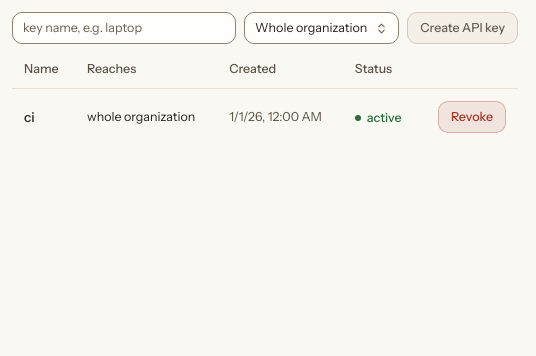
Test: creating an API key › shows the token once, with what it is for
The width and height of the screenshot is (536, 356).
Type "laptop" into the field labelled "key name" at coordinates (124, 28), box [12,12,236,44]
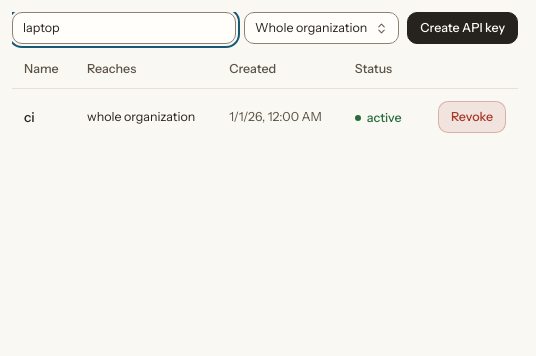
Click the button "Create API key" at coordinates (463, 28), box [407,12,518,44]
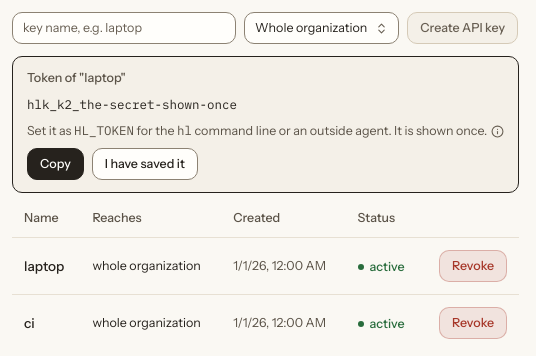
Now the text with test id "secret" reads "hlk_k2_the-secret-shown-once", box [27,96,237,112]
Now the text "hlk_k2_the-secret-shown-once" is shown once, box [27,96,237,112]
Now the text "It is shown once" is shown, box [192,123,487,138]
